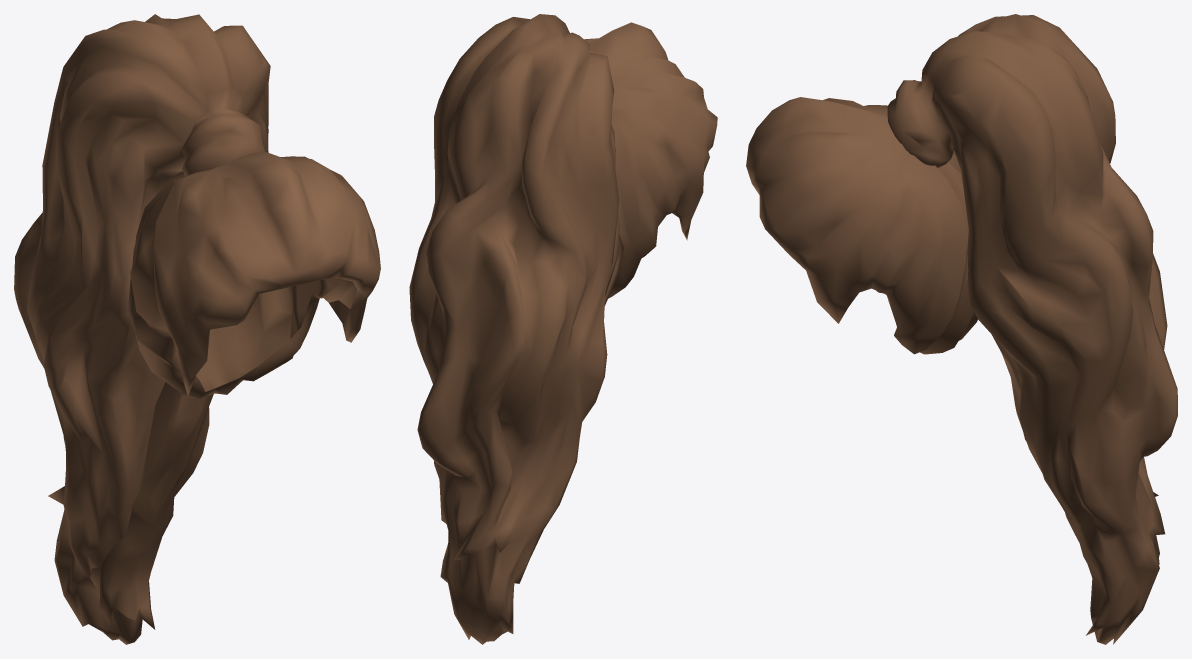
The model's file is hair1.fbx.
3 views of the same model, side by side, from view 1: azimuth 30°, elevation 25°; view 2: azimuth 150°, elevation 25°; view 3: azimuth 270°, elevation 25° (orthographic). The views are drawn at different scales.
Parts seen in each view (by area): view 1: hair1; view 2: hair1; view 3: hair1.
Boxes of the visible parts, x1,y1,x2,y2 form: hair1: (14,14,380,644); hair1: (409,14,717,644); hair1: (746,14,1177,644).
Bounding box in the file's own units: 17.78 × 54.36 × 34.53.
Materials: 1 (1 with a texture image).
